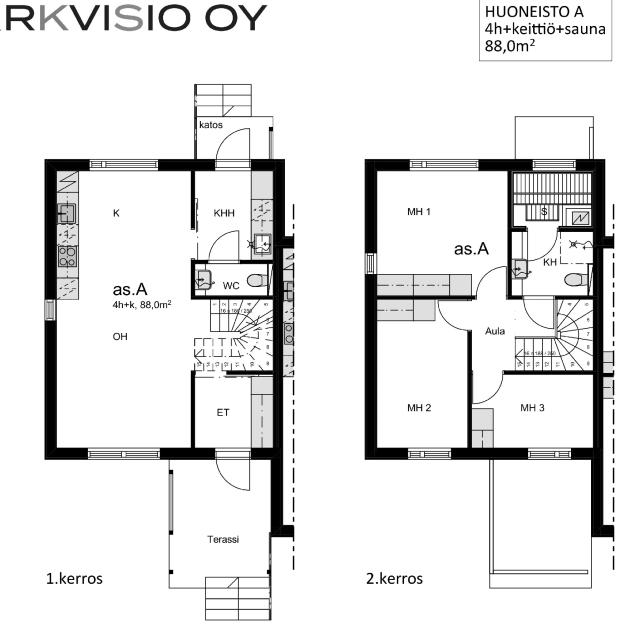door: (210, 124, 258, 169), (214, 449, 255, 494), (203, 225, 246, 266), (521, 224, 558, 264), (434, 296, 474, 332), (469, 369, 506, 406), (519, 294, 556, 330), (474, 263, 508, 300)
window: (80, 153, 166, 175), (80, 444, 169, 464), (405, 155, 482, 173), (519, 443, 578, 464), (401, 445, 457, 463), (164, 468, 177, 535), (529, 156, 578, 172), (362, 248, 380, 278), (42, 294, 59, 324)
zone: (53, 160, 192, 460), (0, 446, 169, 640), (370, 166, 510, 296), (167, 454, 275, 617), (373, 297, 470, 453), (466, 374, 597, 452), (191, 165, 276, 264), (192, 372, 277, 453), (2, 1, 154, 42), (511, 228, 595, 298), (512, 166, 594, 228), (191, 263, 277, 298)
